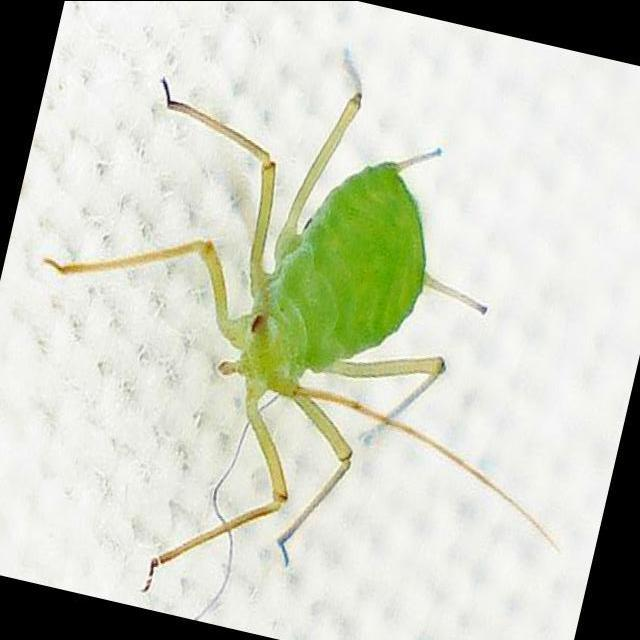aphid: (2, 23, 554, 640)
